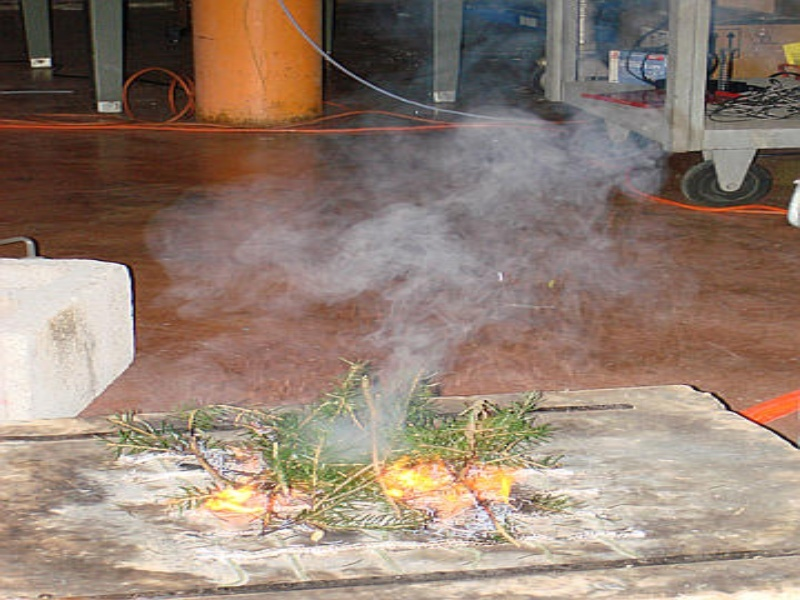smoke: (170, 124, 620, 389)
